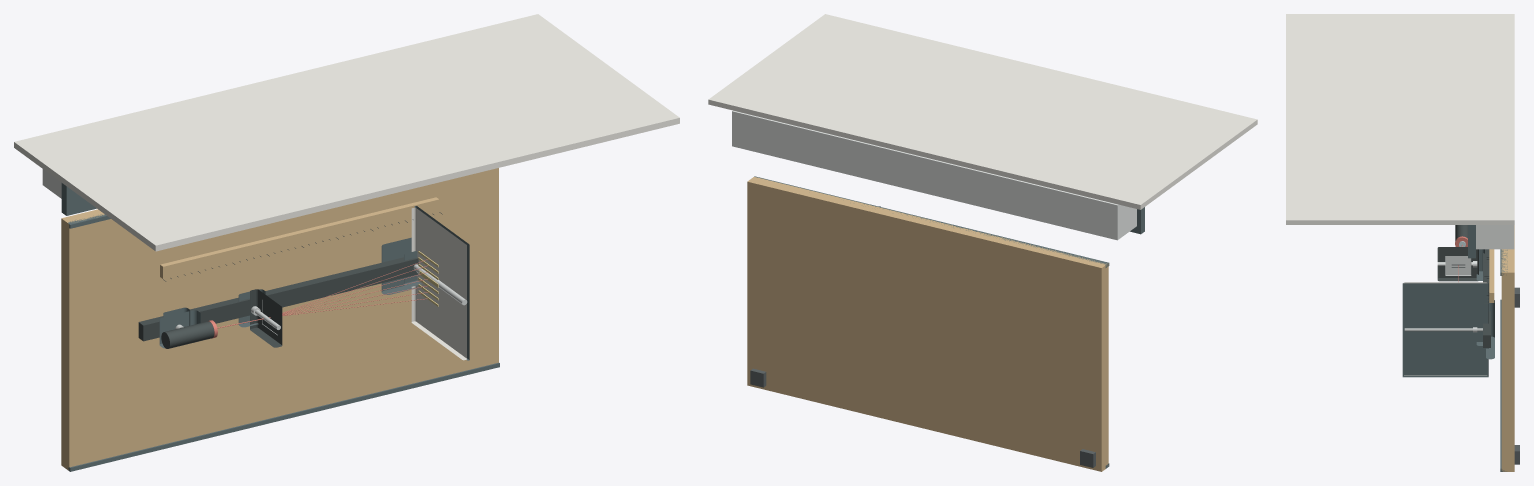
Rendered from rp02-double-slit.glb.
3 views of the same model, side by side, from view 1: azimuth 30°, elevation 25°; view 2: azimuth 150°, elevation 25°; view 3: azimuth 270°, elevation 25° (orthographic). The views are drawn at different scales.
Parts seen in each view (by area): view 1: Laboratory background wall, Laboratory bench laminate, Projection screen, Optical rail, Metre rule, Laboratory bench dark edge, Double slit holder, Laser anodised barrel, Screen cast base; view 2: Laboratory bench laminate, Laboratory background wall, Laboratory background cabinet carcass, Laboratory bench rear edge; view 3: Laboratory background wall, Projection screen rear, Laboratory bench laminate, Laboratory background cabinet carcass, Double slit holder, Double slit plate, Optical rail, Laboratory bench dark edge, Metre rule, Screen cast base, Screen vertical support, Laboratory background worktop.
Part boxes in pixels (box(x1,y1,x2,y2)): Laboratory background wall: box(14, 14, 679, 251); Laboratory bench laminate: box(61, 168, 498, 470); Projection screen: box(411, 207, 466, 360); Optical rail: box(138, 257, 418, 341); Metre rule: box(160, 197, 439, 278); Laboratory bench dark edge: box(66, 362, 499, 471); Double slit holder: box(250, 289, 282, 347); Laser anodised barrel: box(161, 321, 214, 348); Screen cast base: box(381, 237, 415, 294); Laboratory bench laminate: box(747, 177, 1108, 471); Laboratory background wall: box(708, 14, 1257, 209); Laboratory background cabinet carcass: box(732, 110, 1136, 240); Laboratory bench rear edge: box(754, 176, 1109, 267); Laboratory background wall: box(1286, 14, 1514, 224); Projection screen rear: box(1402, 283, 1488, 377); Laboratory bench laminate: box(1501, 225, 1514, 471); Laboratory background cabinet carcass: box(1476, 225, 1514, 249); Double slit holder: box(1437, 247, 1478, 281); Double slit plate: box(1445, 256, 1471, 275); Optical rail: box(1483, 249, 1490, 347); Laboratory bench dark edge: box(1500, 299, 1506, 471); Metre rule: box(1489, 249, 1494, 302); Screen cast base: box(1486, 299, 1494, 359); Screen vertical support: box(1404, 328, 1482, 331); Laboratory background worktop: box(1468, 225, 1475, 258).
Size of the model in its own units: 11.1 by 6.78 by 5.32.
